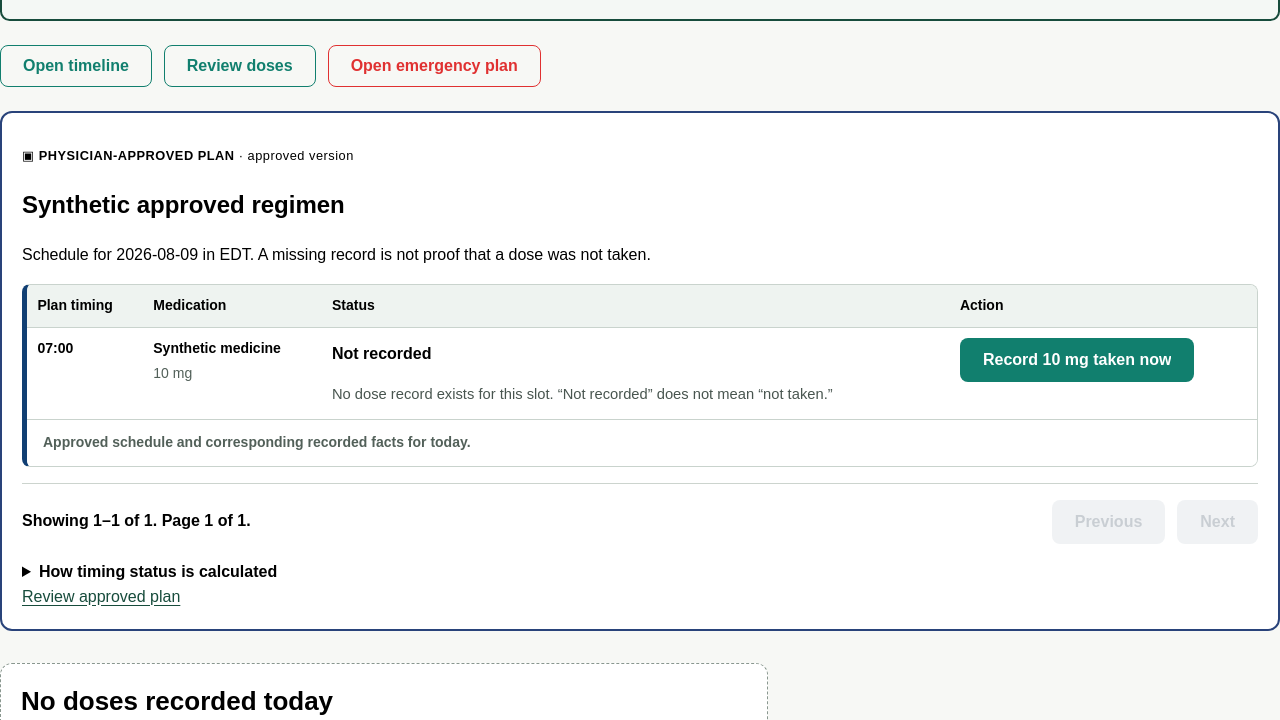
Test case: Today page › separates plan status from facts and records a planned dose with one action
(page scrolled)
Expected: the text "Not recorded" is shown, [332, 345, 432, 362]
Expected: the element named "Today's approved schedule and recorded status" is shown, [22, 284, 1258, 467]
Click the button "Record 10 mg taken now" at {"x": 1077, "y": 360}, box [960, 338, 1194, 382]
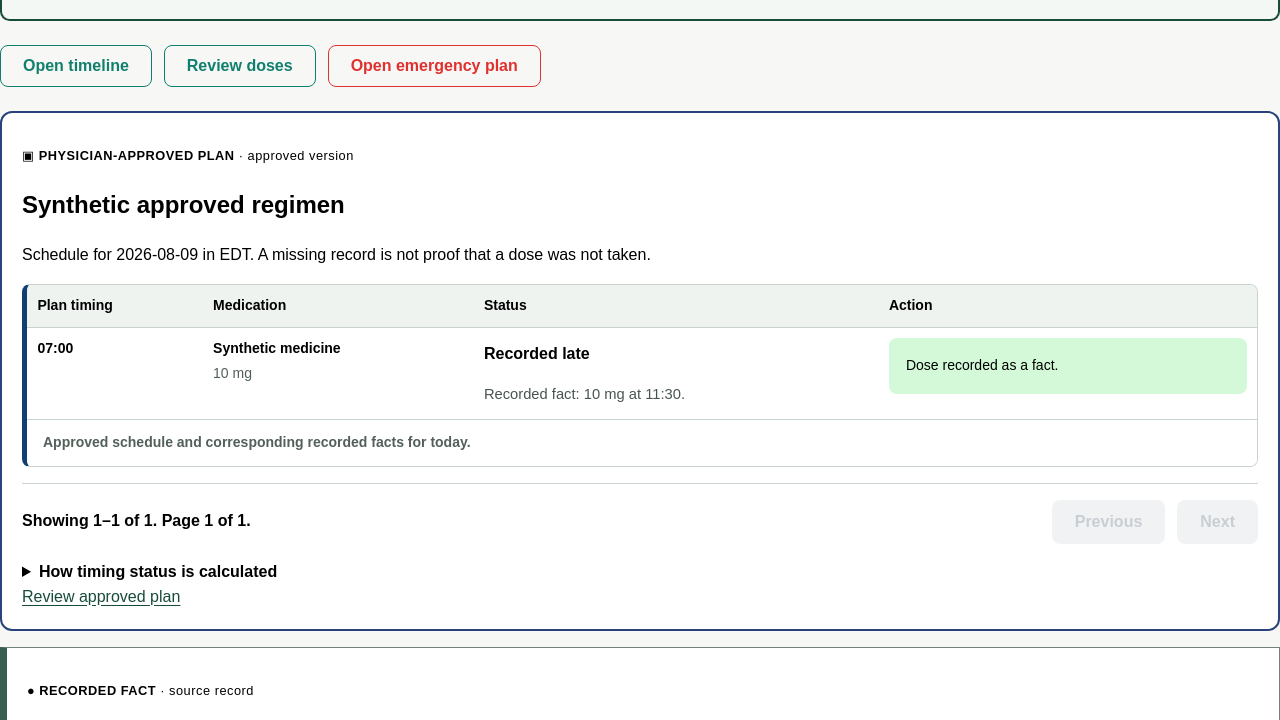
Expected: the text "Recorded late" is shown, [484, 345, 590, 362]
